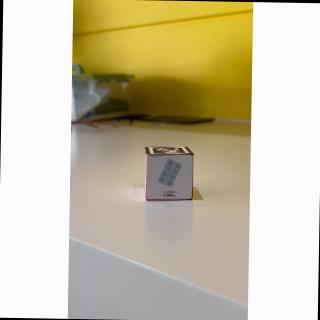Tablet: (148, 155, 196, 201)
